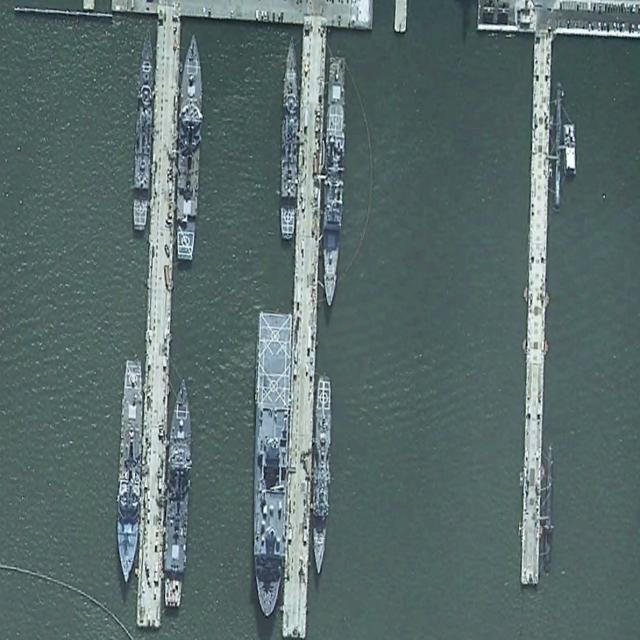Auxiliary Ships: (249, 311, 293, 617)
Cruiser: (320, 54, 348, 308)
Destroyer: (160, 373, 195, 609), (172, 31, 205, 261), (113, 358, 145, 585)
Frigate: (131, 24, 158, 233), (311, 373, 333, 577), (279, 33, 300, 241)
Submarine: (551, 80, 566, 214), (543, 443, 556, 572)
